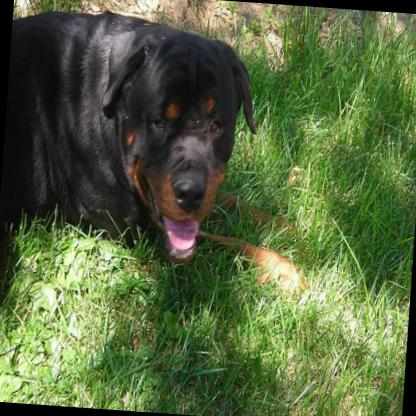Rottweiler: (0, 2, 327, 308)
